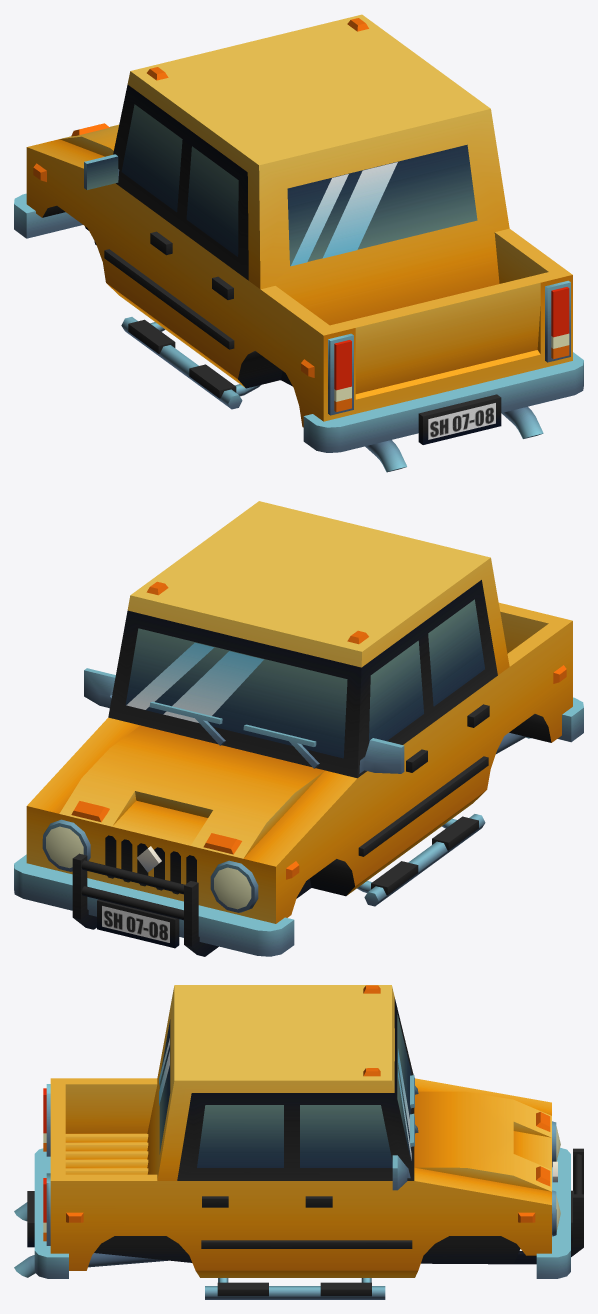
The model's file is car12.glb.
3 views of the same model, one above another, from view 1: azimuth 30°, elevation 25°; view 2: azimuth 150°, elevation 25°; view 3: azimuth 270°, elevation 25° (orthographic). The views are drawn at different scales.
Visible parts, largest first — view 1: model_11.001; view 2: model_11.001; view 3: model_11.001.
Part boxes in pixels (x1=…): model_11.001: x1=14, y1=14, x2=583, y2=472; model_11.001: x1=14, y1=501, x2=583, y2=956; model_11.001: x1=14, y1=985, x2=583, y2=1299.
Bounding box in the file's own units: 159 × 125 × 293.
Materials: 1 (1 with a texture image).
